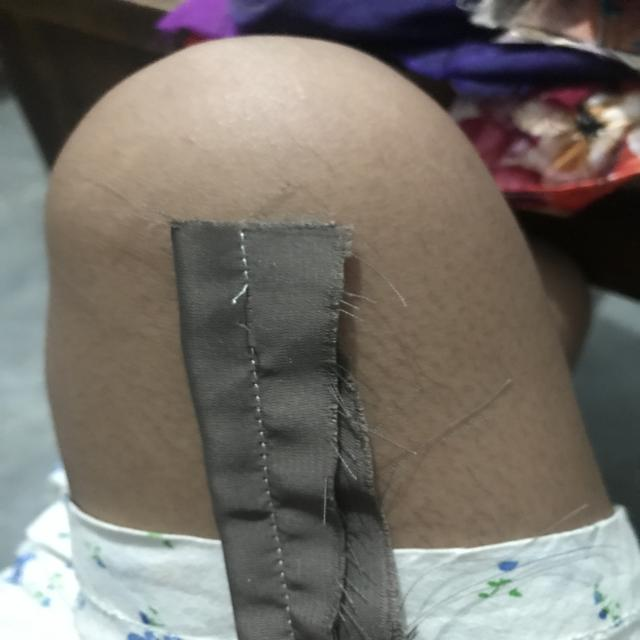broken: (213, 268, 270, 348)
good: (240, 382, 290, 508)
